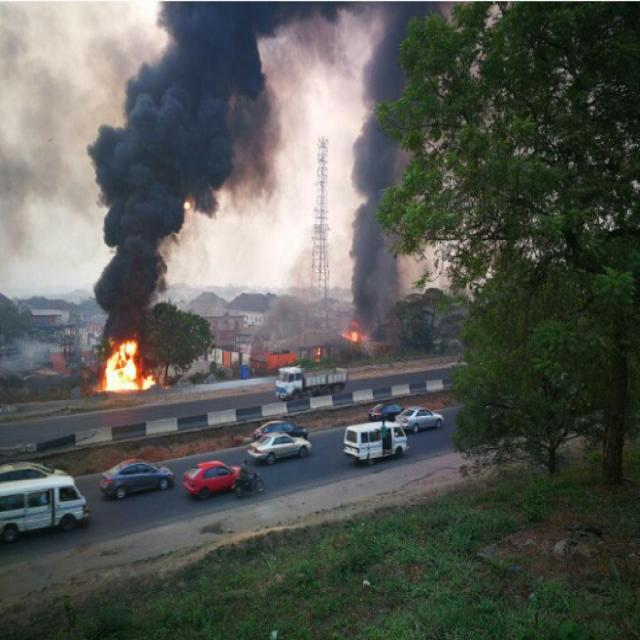Fire: (76, 332, 172, 400), (329, 317, 371, 362)
Smoke: (100, 0, 420, 331), (0, 0, 96, 272)
